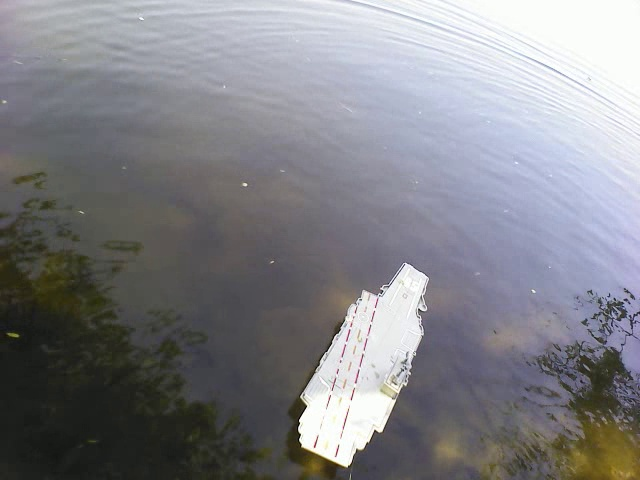aircraft_carrier: (296, 263, 431, 470)
